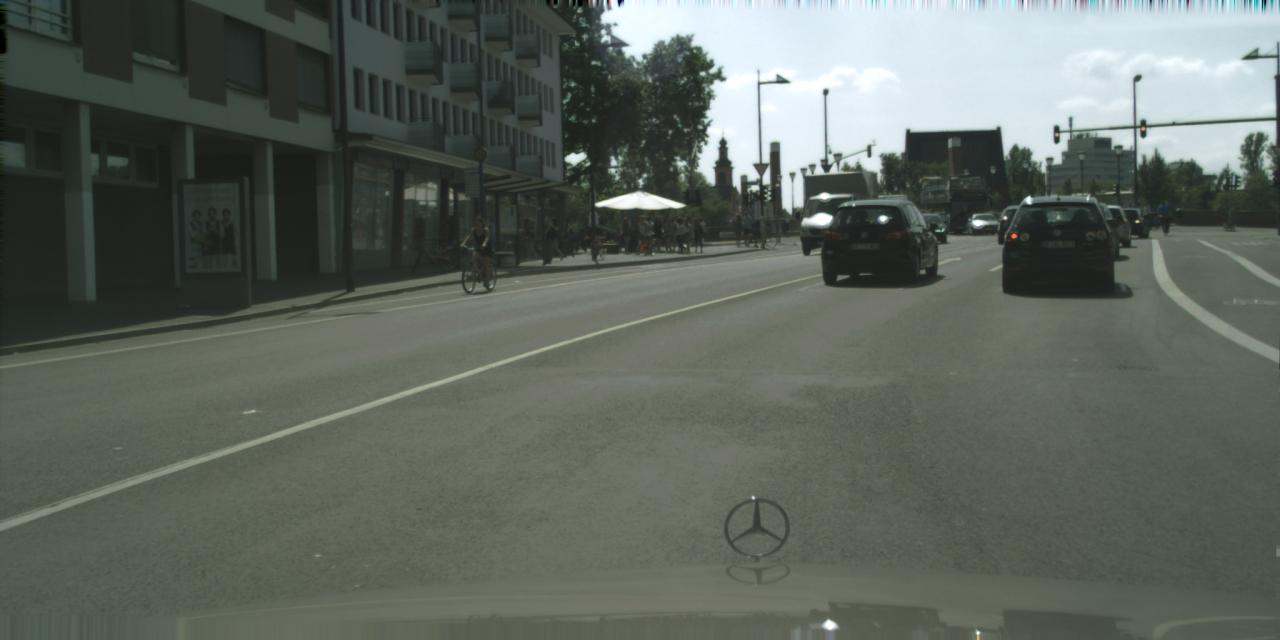ped: (467, 215, 492, 278), (544, 218, 562, 260), (618, 216, 634, 253), (632, 215, 647, 254), (669, 215, 683, 251), (642, 216, 656, 252), (690, 218, 704, 253), (672, 217, 686, 252), (738, 210, 752, 244), (679, 218, 693, 252), (659, 216, 673, 250), (730, 214, 744, 246), (663, 218, 676, 251), (652, 217, 665, 250), (756, 216, 769, 248), (682, 215, 694, 245), (694, 218, 706, 246), (1157, 202, 1168, 230), (1142, 199, 1152, 228), (753, 218, 761, 238)
